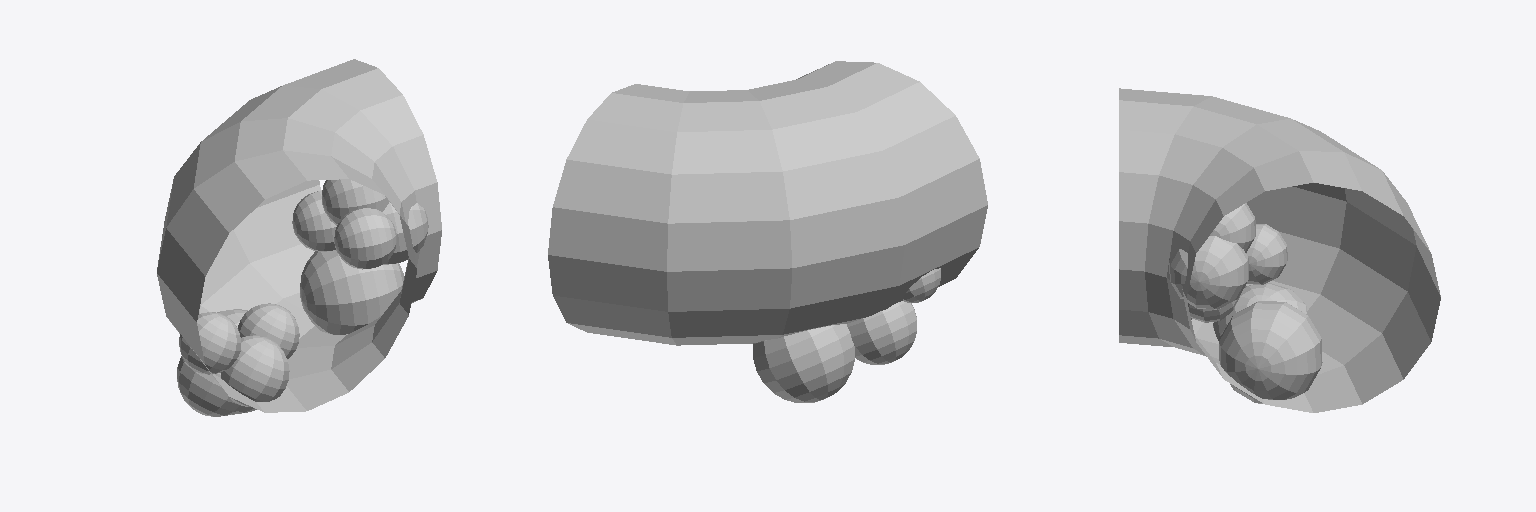
The picture shows the model from 3 angles: view 1: azimuth 30°, elevation 25°; view 2: azimuth 150°, elevation 25°; view 3: azimuth 270°, elevation 25°; orthographic projection.
Parts seen in each view (by area): view 1: sCurve_A; view 2: sCurve_A; view 3: sCurve_A.
Part boxes in pixels (x1,y1,x2,y2): sCurve_A: (157, 59, 441, 416); sCurve_A: (548, 61, 987, 402); sCurve_A: (1119, 88, 1440, 412).
Size of the model in its own units: 104 by 101 by 104.